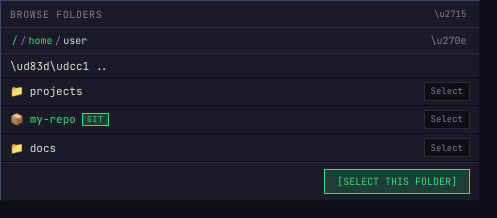
Test case: FolderPicker › navigates into a directory on click
Click the text "projects" at (56, 91), box [30,84,82,98]
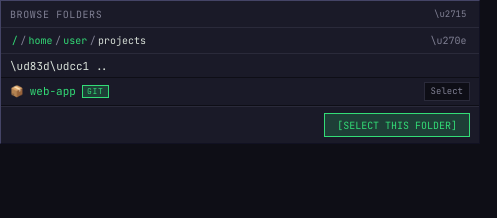
Check: the text "web-app" is shown, box [30,84,76,98]
